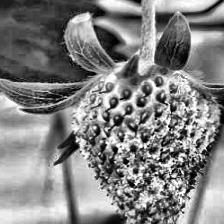Powdery Mildew Fruit: (71, 63, 222, 224)
